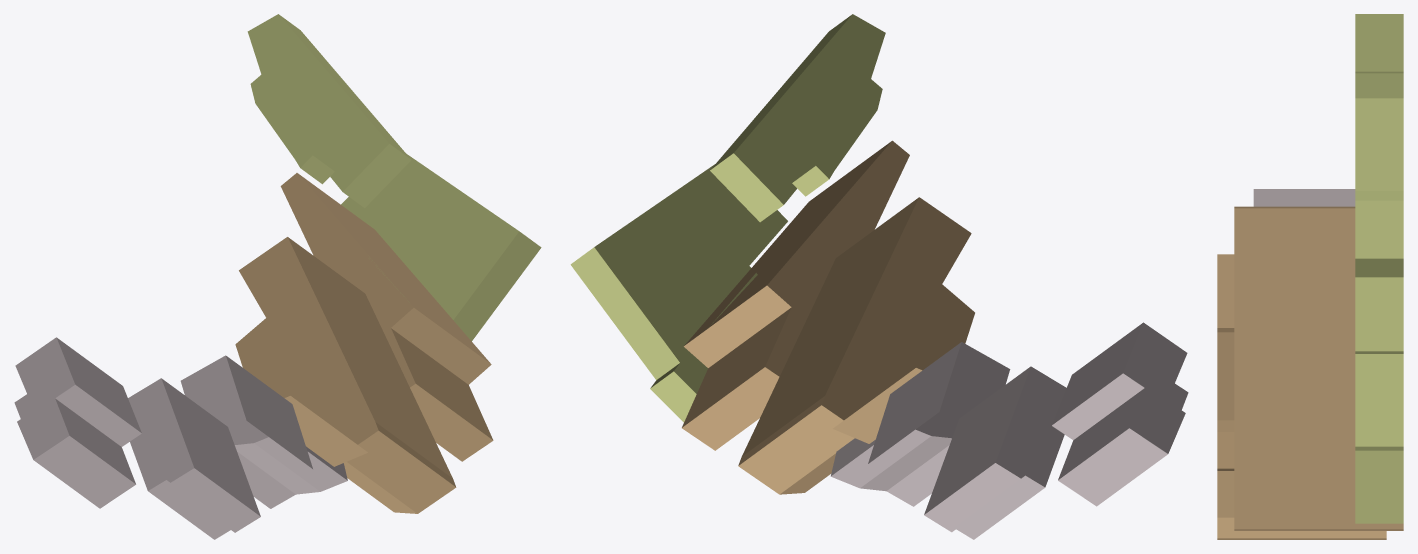
The picture shows the model from 3 angles, left to right: view 1: azimuth 30°, elevation 25°; view 2: azimuth 150°, elevation 25°; view 3: azimuth 270°, elevation 25°; orthographic projection. The views are drawn at different scales.
Parts seen in each view (by area): view 1: 0_3_0_1_1_2_2_0; view 2: 0_3_0_1_1_2_2_0; view 3: 0_3_0_1_1_2_2_0.
Boxes of the visible parts, bbox=[...] form: 0_3_0_1_1_2_2_0: bbox=[14, 14, 541, 539]; 0_3_0_1_1_2_2_0: bbox=[570, 14, 1188, 539]; 0_3_0_1_1_2_2_0: bbox=[1217, 14, 1403, 539].
Bounding box in the file's own units: 79.05 × 67.1 × 23.1.
